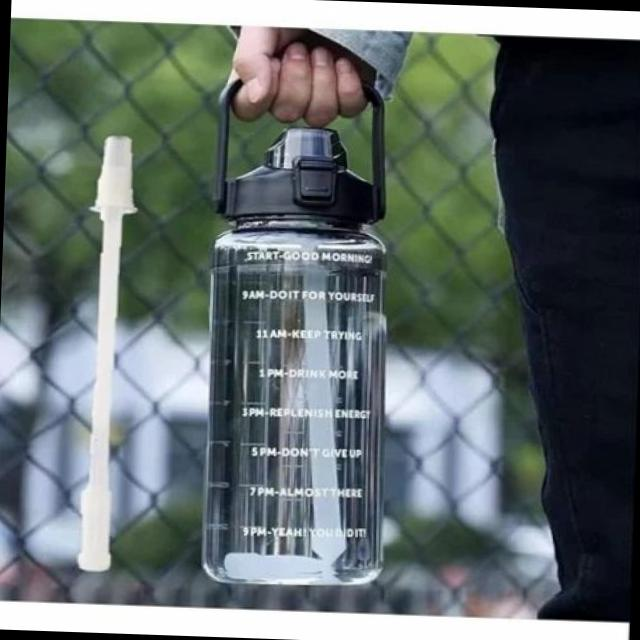plastic_bottle: (160, 65, 429, 633)
